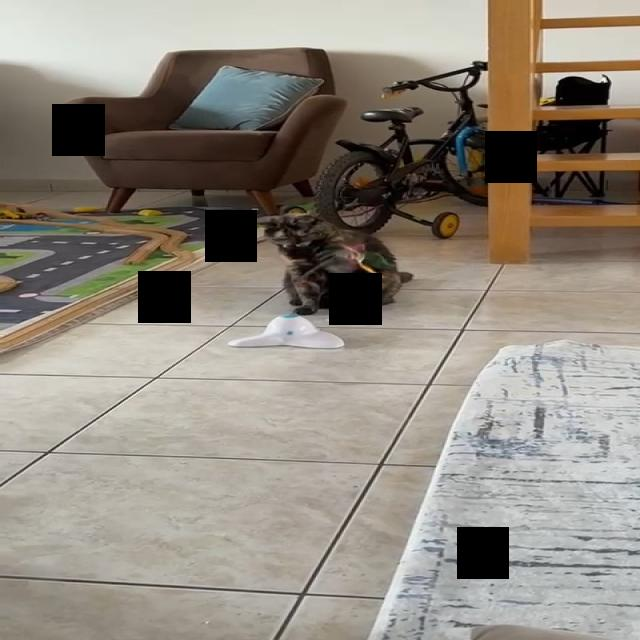authorized: (257, 212, 413, 315)
